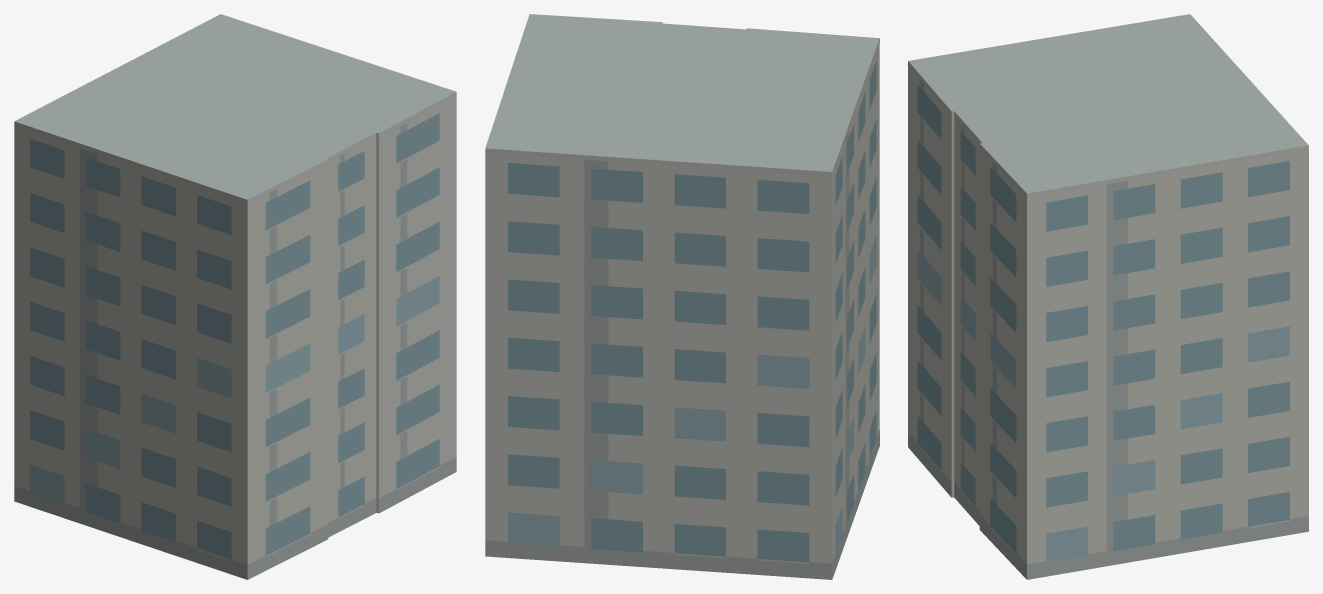
The model's file is survey-upis-32527603.glb.
3 renders of one model, left to right at view 1: azimuth 30°, elevation 25°; view 2: azimuth 150°, elevation 25°; view 3: azimuth 270°, elevation 25°, orthographic. The views are drawn at different scales.
Visible parts, largest first — view 1: survey-upis-32527603.tmp; view 2: survey-upis-32527603.tmp; view 3: survey-upis-32527603.tmp.
Part boxes in pixels (x1,y1,x2,y2): survey-upis-32527603.tmp: (14,14,456,579); survey-upis-32527603.tmp: (485,14,879,579); survey-upis-32527603.tmp: (908,14,1308,579).
Size of the model in its own units: 22.05 by 22.1 by 20.79.
